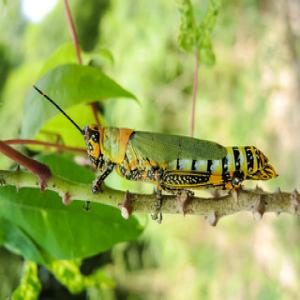locust: (48, 100, 281, 202)
